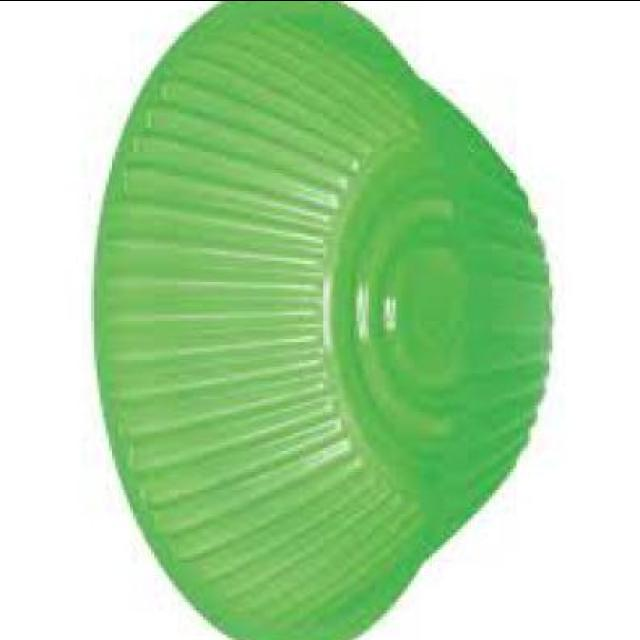kaca: (88, 0, 550, 640)
